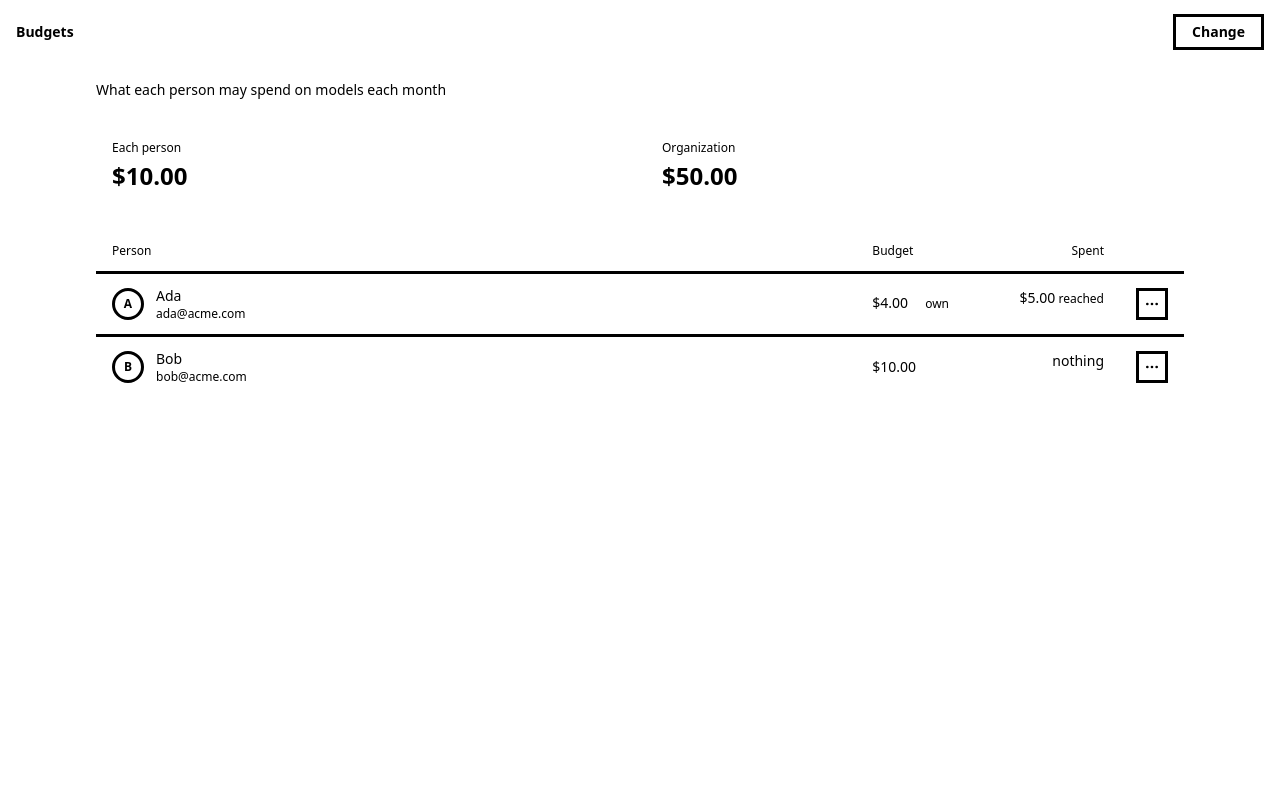
budgets › sets both budgets in one form behind Change, holding what is kept
This screenshot has width=1280, height=800.
Click the button "Change": point(1219, 32) [1173,14,1264,50]
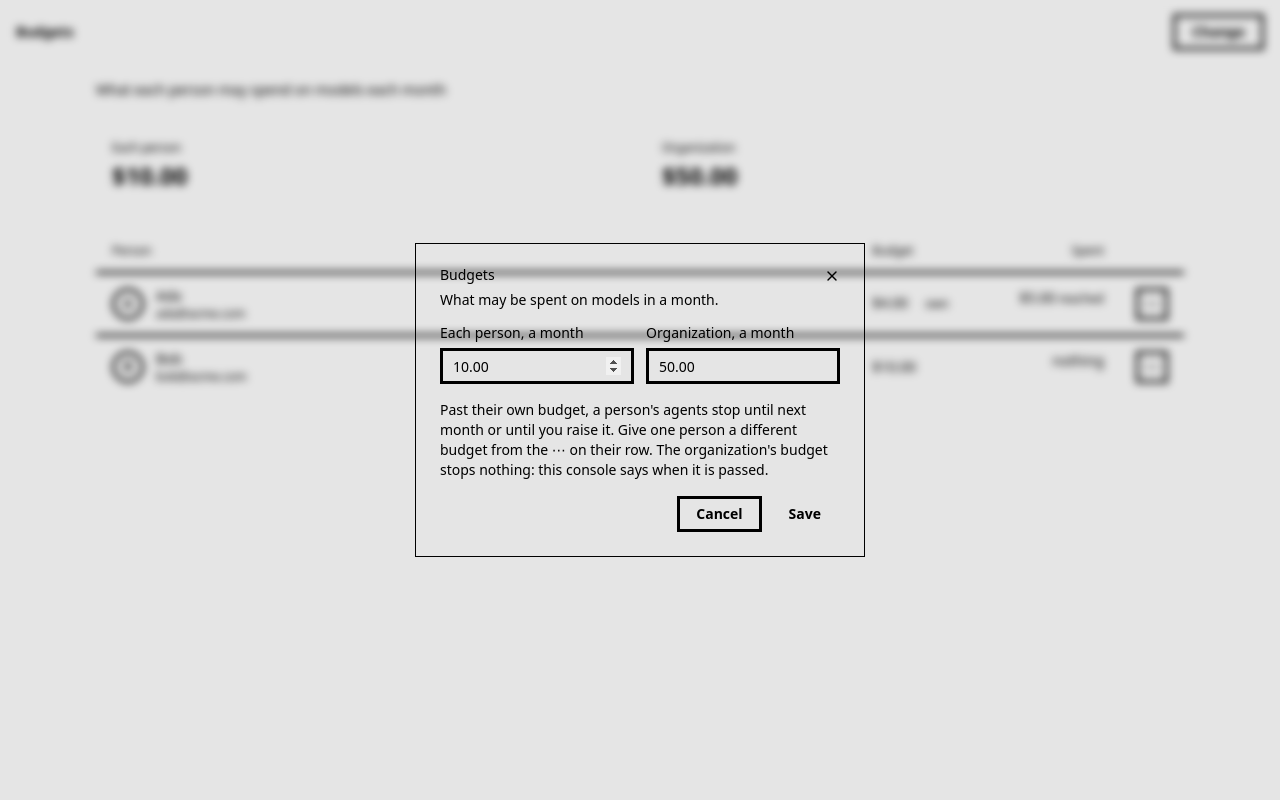
Now the number field labelled "Each person, a month" holds "10.00", box [440,348,634,384]
Now the number field labelled "Organization, a month" holds "50.00", box [646,348,840,384]
